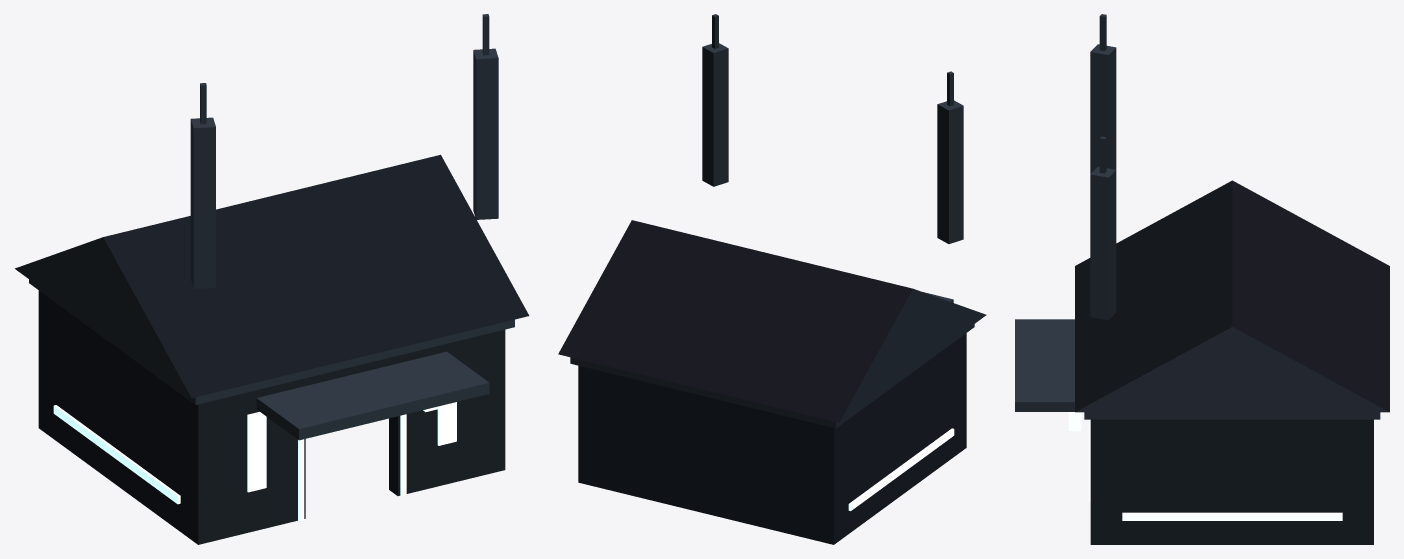
Rendered from shaddai_dist_darkforest_home_a_v01.glb.
3 views of the same model, side by side, from view 1: azimuth 30°, elevation 25°; view 2: azimuth 150°, elevation 25°; view 3: azimuth 270°, elevation 25° (orthographic). The views are drawn at different scales.
Visible parts, largest first — view 1: shaddai_dist_darkforest_home_a; view 2: shaddai_dist_darkforest_home_a; view 3: shaddai_dist_darkforest_home_a.
Boxes of the visible parts, x1=… form: shaddai_dist_darkforest_home_a: x1=15, y1=14, x2=529, y2=544; shaddai_dist_darkforest_home_a: x1=558, y1=14, x2=986, y2=544; shaddai_dist_darkforest_home_a: x1=1015, y1=14, x2=1389, y2=544.
Bounding box in the file's own units: 11 × 14.08 × 11.9.
